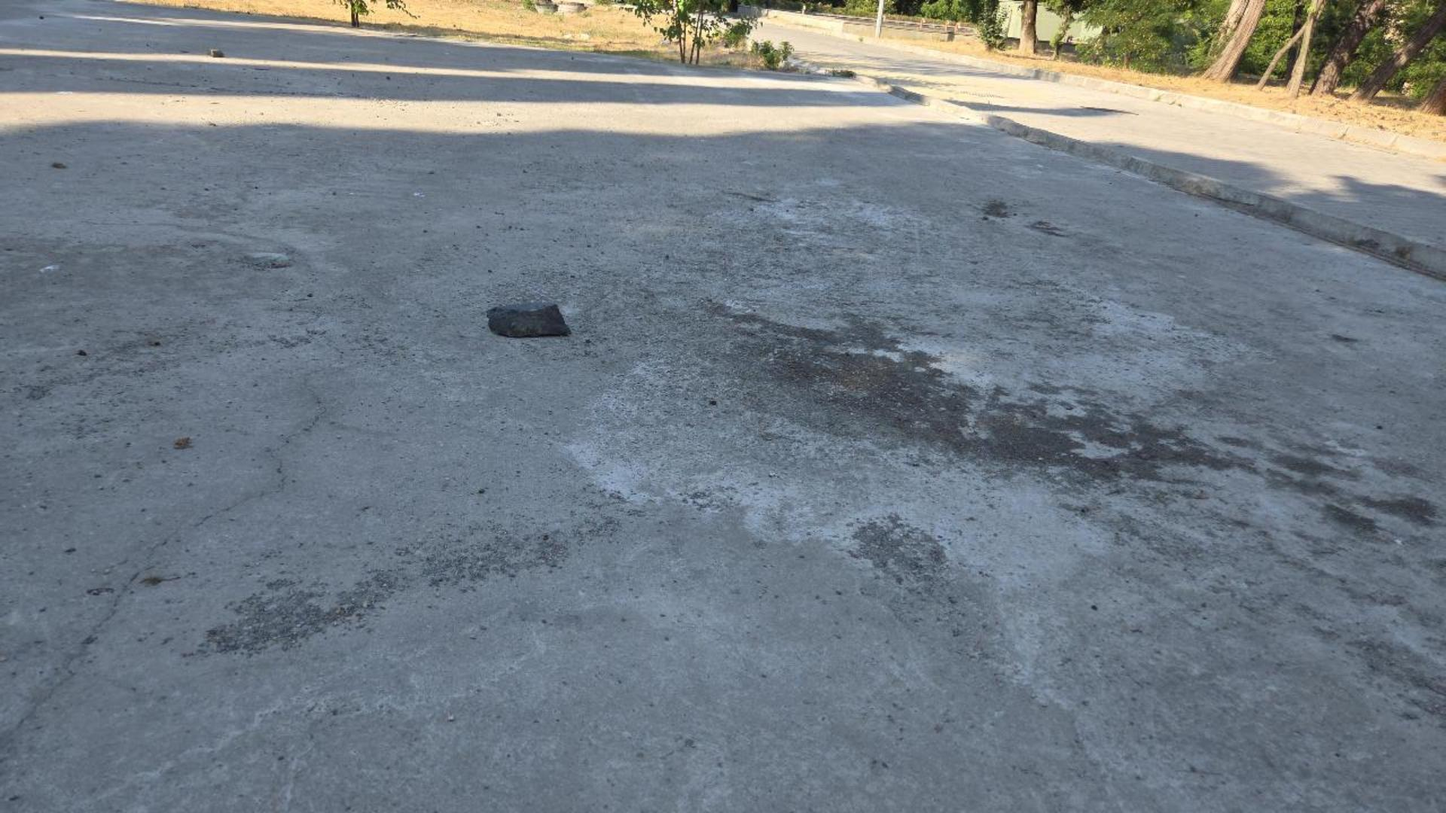rock: (487, 300, 570, 336)
